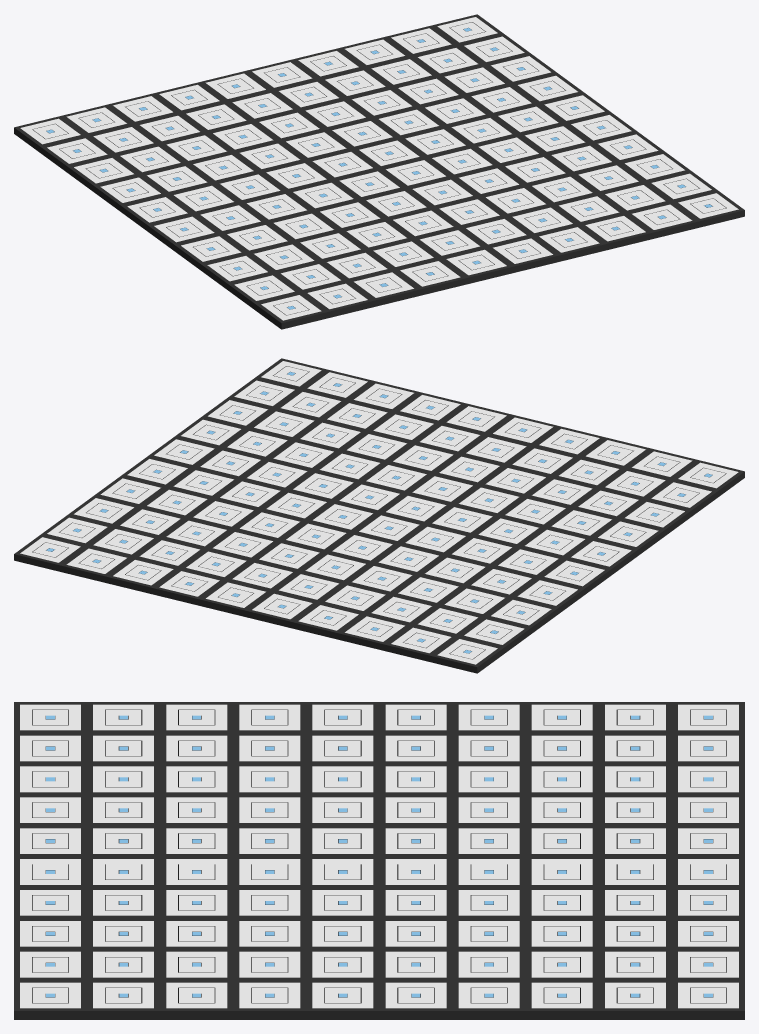
File: Floor1.fbx
3 views of the same model, one above another, from view 1: azimuth 30°, elevation 25°; view 2: azimuth 150°, elevation 25°; view 3: azimuth 270°, elevation 25° (orthographic). The views are drawn at different scales.
Visible parts, largest first — view 1: Floor1; view 2: Floor1; view 3: Floor1.
Part boxes in pixels (box(x1,y1,x2,y2)): Floor1: box(14, 14, 744, 329); Floor1: box(14, 358, 744, 673); Floor1: box(14, 702, 744, 1019).
Size of the model in its own units: 40 by 0.5332 by 40.
